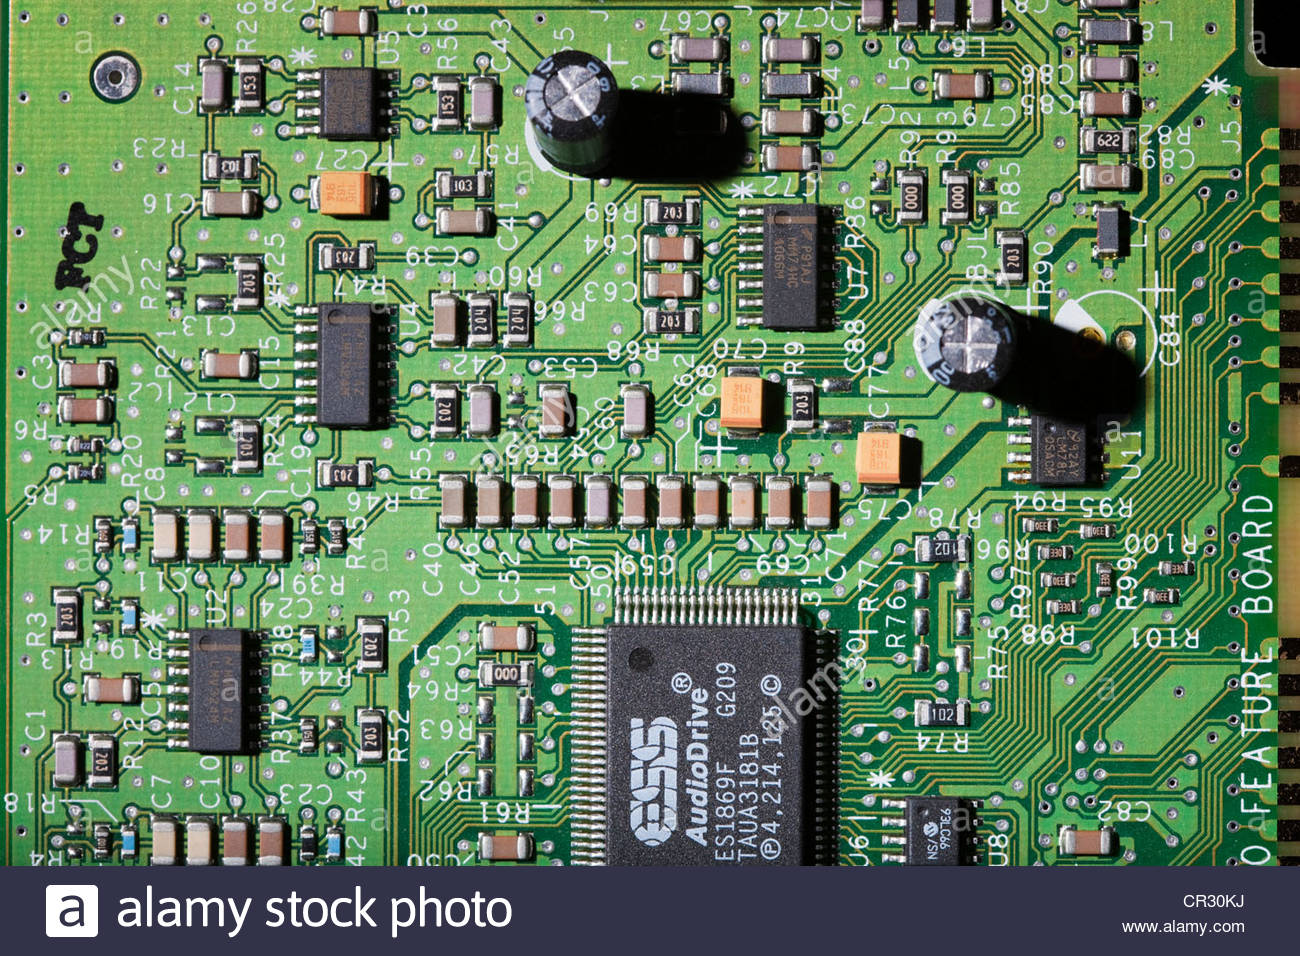capacitor: (505, 33, 645, 203), (904, 257, 1027, 417)
